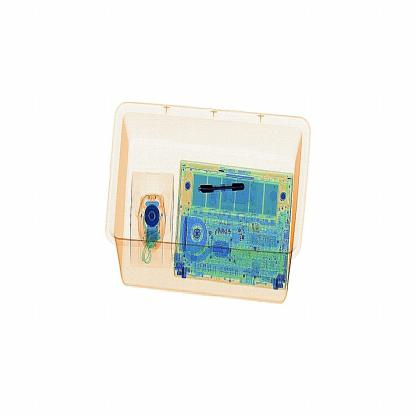knife: (195, 176, 254, 206)
